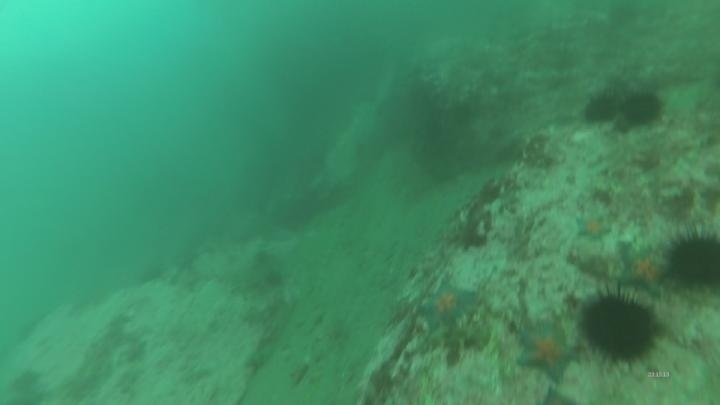echinus: (576, 286, 663, 370), (662, 225, 720, 295), (617, 89, 665, 130), (581, 90, 620, 127)
starfish: (513, 319, 580, 385), (418, 277, 480, 333), (614, 244, 672, 299), (572, 211, 613, 244)
